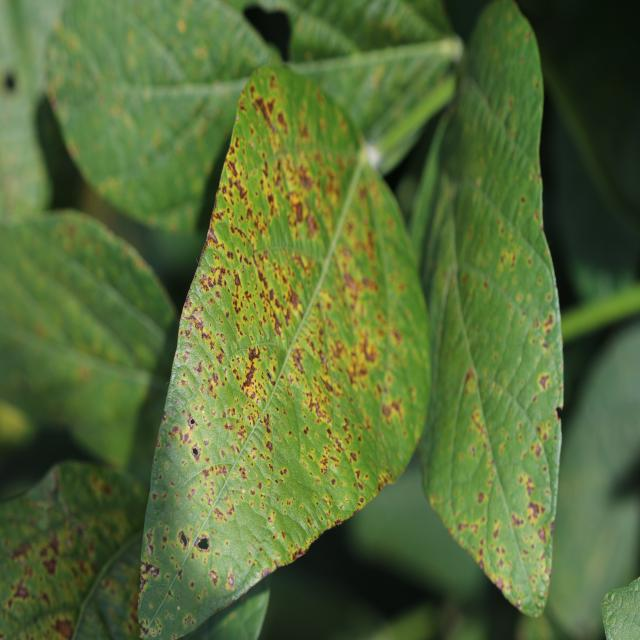Bacterial_Blight: (193, 304, 225, 356), (238, 345, 266, 398), (342, 344, 372, 390), (281, 274, 309, 317), (199, 464, 231, 500), (252, 93, 278, 132), (303, 108, 324, 149), (306, 387, 330, 422), (254, 262, 278, 297), (238, 204, 263, 236), (256, 155, 278, 188), (192, 527, 211, 559), (383, 397, 403, 426), (324, 509, 347, 531), (205, 264, 220, 297), (342, 269, 359, 295), (226, 260, 242, 286), (227, 151, 238, 188), (291, 348, 306, 375), (361, 339, 377, 363), (140, 560, 161, 578), (297, 169, 313, 192), (290, 200, 304, 224), (214, 459, 230, 480), (306, 211, 318, 237), (140, 623, 156, 637), (207, 225, 218, 245), (177, 531, 189, 549), (145, 532, 154, 555), (262, 414, 272, 434), (206, 381, 217, 398), (209, 569, 219, 587), (292, 548, 305, 561), (226, 570, 235, 588), (213, 508, 225, 521), (179, 432, 190, 446), (191, 445, 201, 460), (265, 440, 273, 453), (188, 418, 197, 428), (280, 467, 288, 477)
Soybean: (139, 66, 430, 638)
